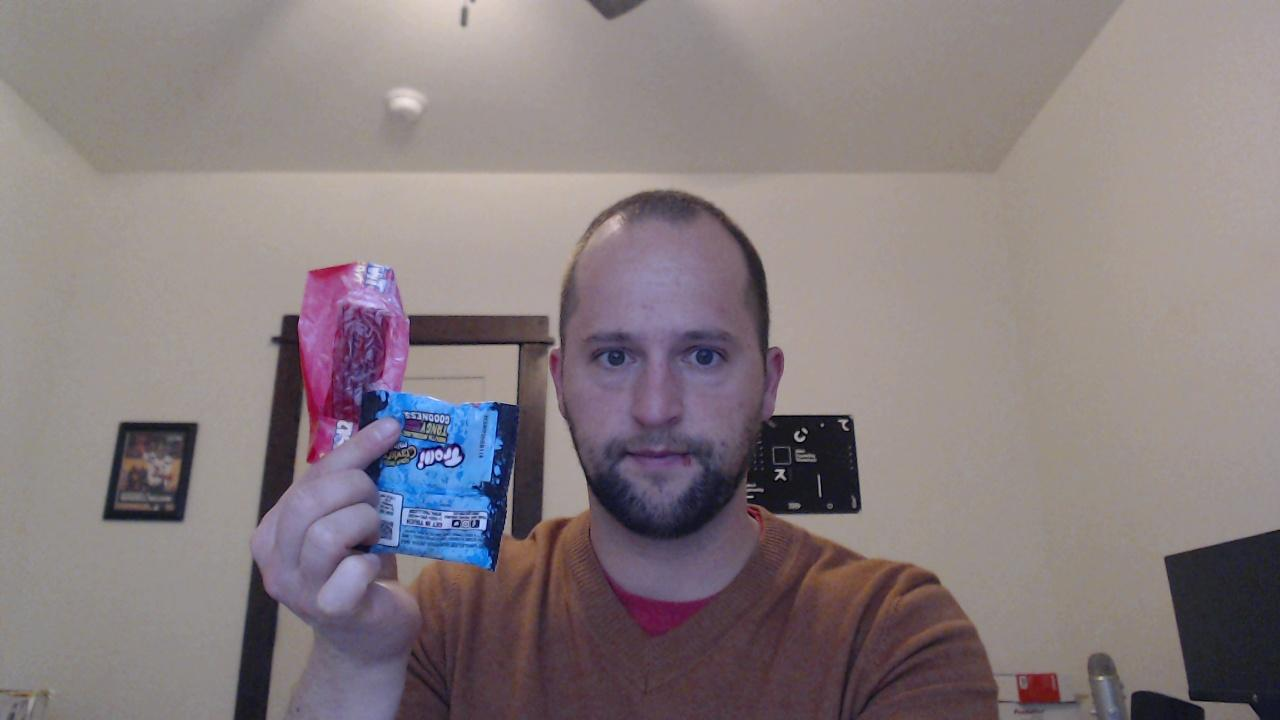Trolli: (353, 391, 525, 570)
twizzlers: (299, 262, 411, 462)
